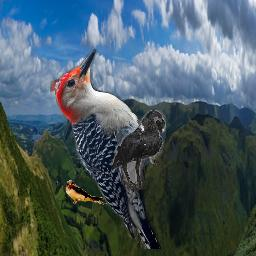Crow: (111, 110, 166, 190)
Swallow: (65, 180, 108, 206)
Woodpecker: (50, 49, 161, 249)
